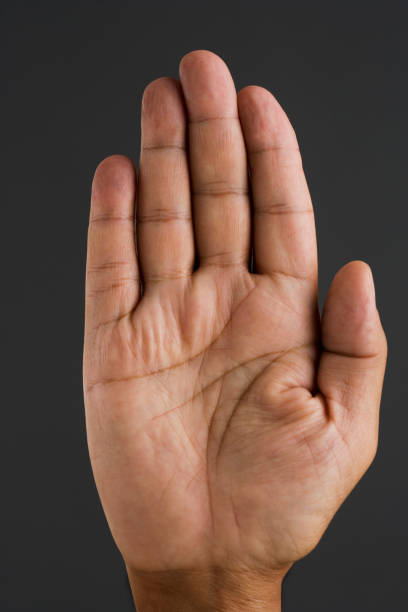non-diseased: (86, 60, 384, 543)
